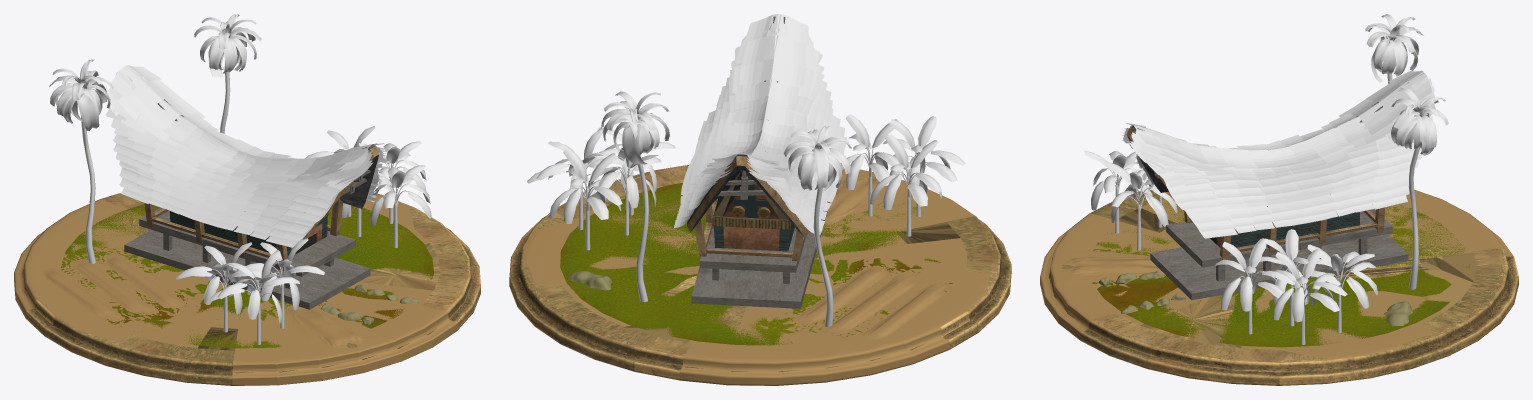
File: Toraja.fbx
3 renders of one model, left to right at view 1: azimuth 30°, elevation 25°; view 2: azimuth 150°, elevation 25°; view 3: azimuth 270°, elevation 25°, orthographic. The views are drawn at different scales.
Parts seen in each view (by area): view 1: Circle.001, Plane, Circle.002, kaki rumah, COM_Nature_TreeA_PalmTree01_SM01.001, atap rumah, COM_Nature_TreeA_PalmTree01_SM01, COM_Nature_TreeA_BananaTree01_SM01.004, COM_Nature_TreeA_BananaTree01_SM01.003, COM_Nature_TreeA_BananaTree01_SM01, COM_Nature_TreeA_BananaTree01_SM01.005, badan rumah (+2 smaller); view 2: Circle.001, Circle.002, Plane, kaki rumah, COM_Nature_TreeA_PalmTree01_SM01, COM_Nature_TreeA_PalmTree01_SM01.001, badan rumah, atap rumah, COM_Nature_TreeA_BananaTree01_SM01.006, COM_Nature_TreeA_BananaTree01_SM01.003, COM_Nature_TreeA_BananaTree01_SM01.005, COM_Nature_TreeA_BananaTree01_SM01.004 (+5 smaller); view 3: Circle.001, Plane, Circle.002, kaki rumah, COM_Nature_TreeA_PalmTree01_SM01, COM_Nature_TreeA_PalmTree01_SM01.001, COM_Nature_TreeA_BananaTree01_SM01.002, COM_Nature_TreeA_BananaTree01_SM01, atap rumah, COM_Nature_TreeA_BananaTree01_SM01.006, COM_Nature_TreeA_BananaTree01_SM01.005, badan rumah (+3 smaller).
Boxes of the visible parts, x1=… form: Circle.001: x1=14, y1=193, x2=480, y2=385; Plane: x1=105, y1=65, x2=390, y2=247; Circle.002: x1=19, y1=204, x2=475, y2=374; kaki rumah: x1=124, y1=169, x2=370, y2=309; COM_Nature_TreeA_PalmTree01_SM01.001: x1=49, y1=59, x2=113, y2=263; atap rumah: x1=144, y1=99, x2=378, y2=268; COM_Nature_TreeA_PalmTree01_SM01: x1=194, y1=14, x2=261, y2=133; COM_Nature_TreeA_BananaTree01_SM01.004: x1=209, y1=250, x2=299, y2=344; COM_Nature_TreeA_BananaTree01_SM01.003: x1=176, y1=242, x2=261, y2=332; COM_Nature_TreeA_BananaTree01_SM01: x1=370, y1=165, x2=431, y2=247; COM_Nature_TreeA_BananaTree01_SM01.005: x1=232, y1=238, x2=324, y2=328; badan rumah: x1=170, y1=211, x2=327, y2=256; Circle.001: x1=509, y1=165, x2=1011, y2=385; Circle.002: x1=515, y1=176, x2=1005, y2=373; Plane: x1=674, y1=14, x2=847, y2=234; kaki rumah: x1=691, y1=170, x2=829, y2=308; COM_Nature_TreeA_PalmTree01_SM01: x1=601, y1=91, x2=669, y2=302; COM_Nature_TreeA_PalmTree01_SM01.001: x1=783, y1=125, x2=851, y2=326; badan rumah: x1=713, y1=171, x2=794, y2=251; atap rumah: x1=686, y1=16, x2=809, y2=265; COM_Nature_TreeA_BananaTree01_SM01.006: x1=549, y1=148, x2=622, y2=250; COM_Nature_TreeA_BananaTree01_SM01.003: x1=870, y1=134, x2=942, y2=236; COM_Nature_TreeA_BananaTree01_SM01.005: x1=840, y1=114, x2=904, y2=216; COM_Nature_TreeA_BananaTree01_SM01.004: x1=883, y1=116, x2=965, y2=216; Circle.001: x1=1040, y1=189, x2=1518, y2=385; Plane: x1=1121, y1=70, x2=1435, y2=238; Circle.002: x1=1045, y1=202, x2=1510, y2=373; kaki rumah: x1=1146, y1=163, x2=1408, y2=300; COM_Nature_TreeA_PalmTree01_SM01: x1=1391, y1=88, x2=1448, y2=289; COM_Nature_TreeA_PalmTree01_SM01.001: x1=1365, y1=14, x2=1423, y2=83; COM_Nature_TreeA_BananaTree01_SM01.002: x1=1273, y1=249, x2=1347, y2=344; COM_Nature_TreeA_BananaTree01_SM01: x1=1215, y1=238, x2=1295, y2=334; atap rumah: x1=1126, y1=102, x2=1385, y2=260; COM_Nature_TreeA_BananaTree01_SM01.006: x1=1307, y1=244, x2=1378, y2=332; COM_Nature_TreeA_BananaTree01_SM01.005: x1=1107, y1=162, x2=1177, y2=250; badan rumah: x1=1210, y1=212, x2=1359, y2=247.
Size of the model in its own units: 861 by 428 by 861.
